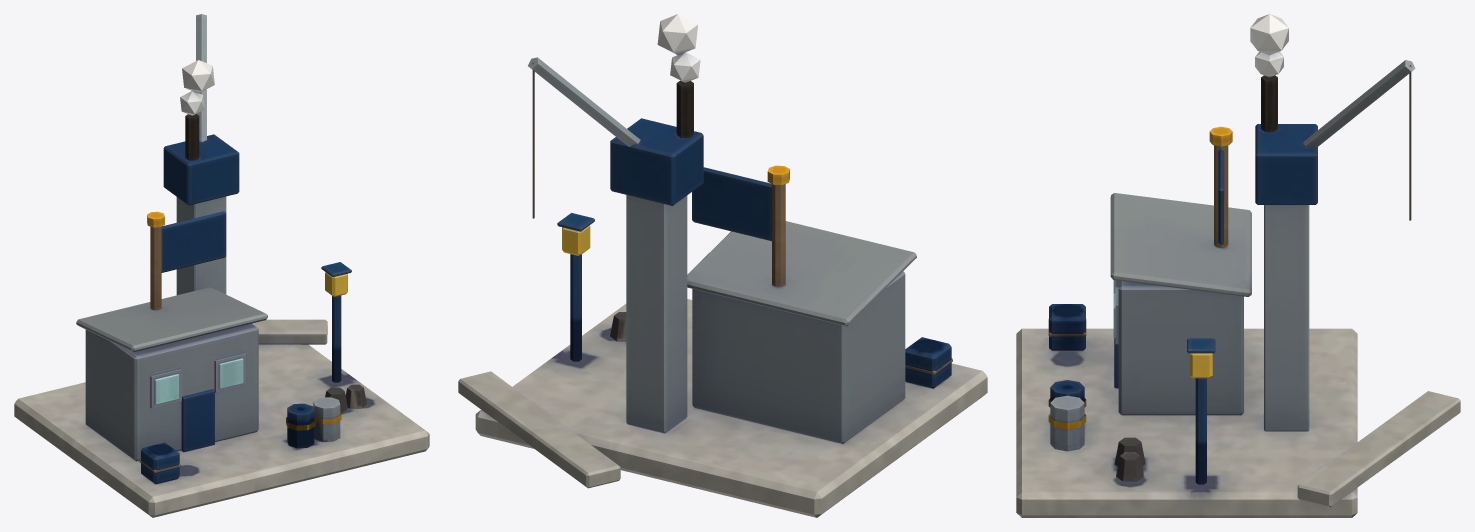
Rendered from harbor-15.glb.
The picture shows the model from 3 angles, left to right: view 1: azimuth 30°, elevation 25°; view 2: azimuth 150°, elevation 25°; view 3: azimuth 270°, elevation 25°; orthographic projection. The views are drawn at different scales.
Visible parts, largest first — view 1: harbor-15; view 2: harbor-15; view 3: harbor-15.
Boxes of the visible parts, x1,y1,x2,y2 form: harbor-15: (14,14,429,517); harbor-15: (458,14,987,517); harbor-15: (1016,14,1460,517).
Size of the model in its own units: 1.51 by 1.66 by 1.56.
1 material, 1 textured.
